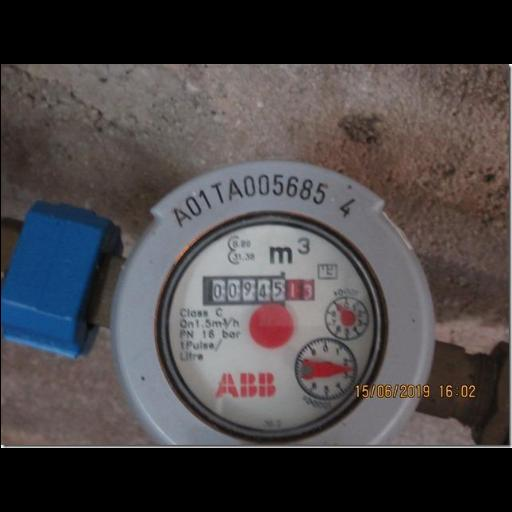0: (226, 279, 241, 303), (212, 279, 226, 303)
1: (285, 281, 302, 302)
3: (301, 281, 315, 302)
4: (257, 279, 272, 303)
5: (271, 279, 285, 303)
9: (241, 279, 256, 303)
border_water_meter_number: (201, 275, 319, 308)
